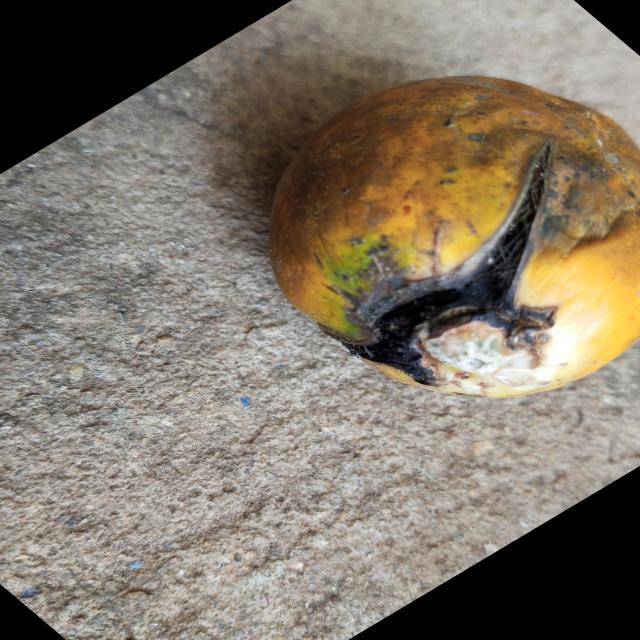damaged: (268, 76, 640, 401)
